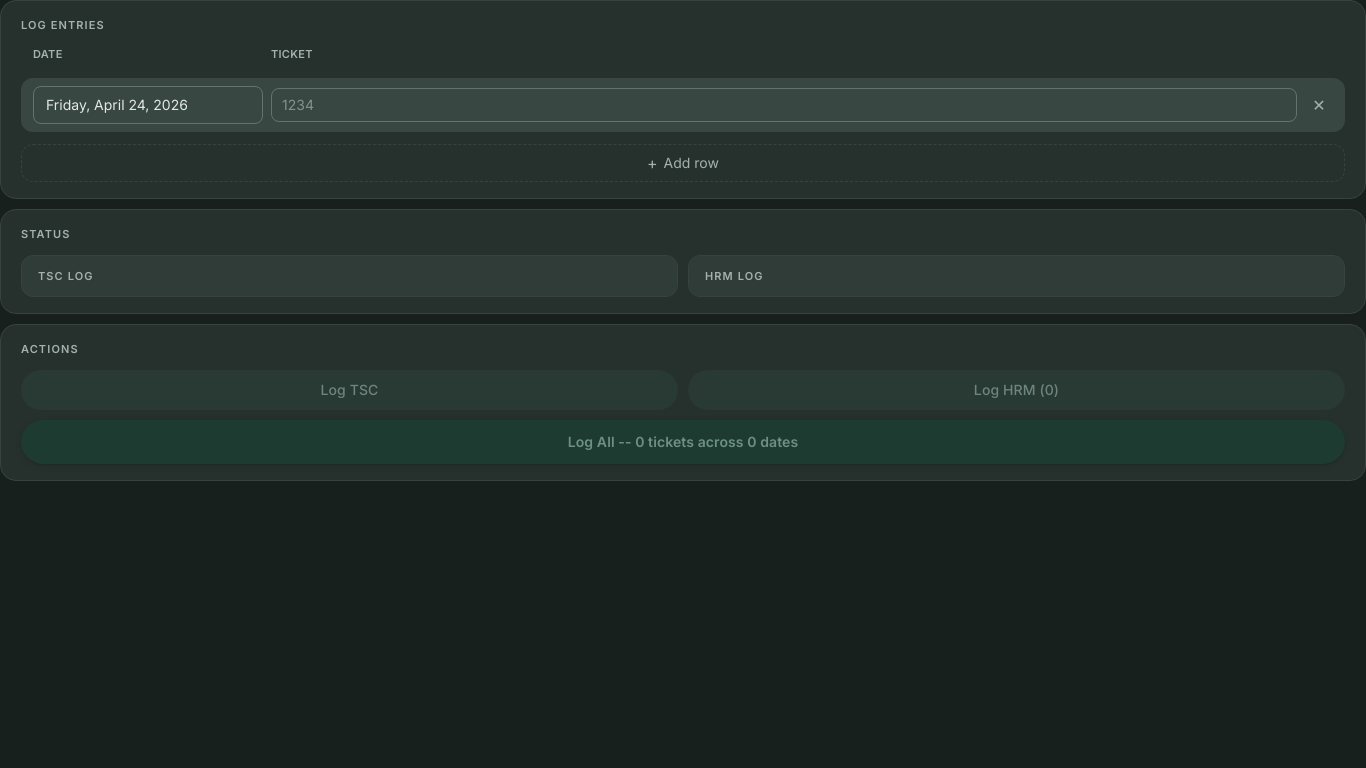
it: LogForm -- row management › adds a new row when clicking add row
Click the button "+ Add row" at {"x": 683, "y": 163}, box [21,144,1345,182]
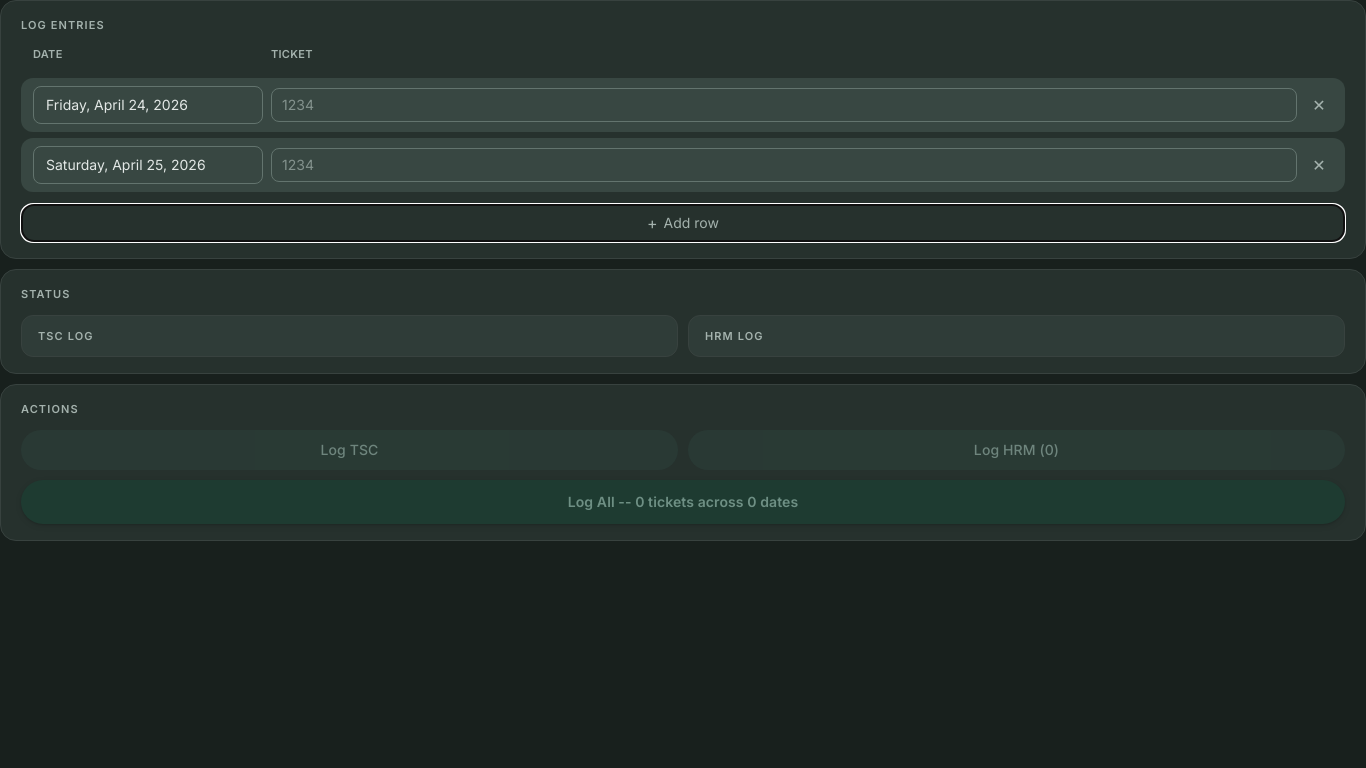
Now the number of fields with placeholder "1234" is 2, box [271,88,1297,122]; [271,148,1297,182]
